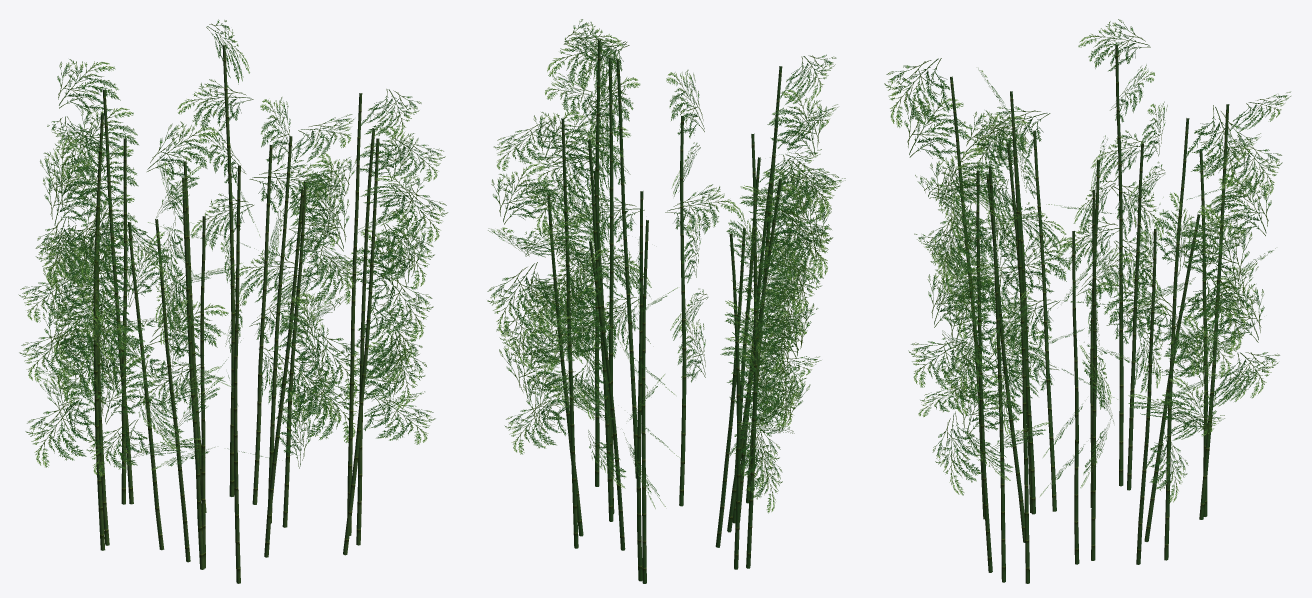
Rendered from bamboo04_lod0.glb.
3 renders of one model, left to right at view 1: azimuth 30°, elevation 25°; view 2: azimuth 150°, elevation 25°; view 3: azimuth 270°, elevation 25°, orthographic.
Visible parts, largest first — view 1: bamboo04_lod0; view 2: bamboo04_lod0; view 3: bamboo04_lod0.
Boxes of the visible parts, x1,y1,x2,y2 form: bamboo04_lod0: (18,19,448,583); bamboo04_lod0: (487,19,845,583); bamboo04_lod0: (884,19,1290,583).
Size of the model in its own units: 38.77 by 49.44 by 41.08.
Materials: 2 (2 with a texture image).
